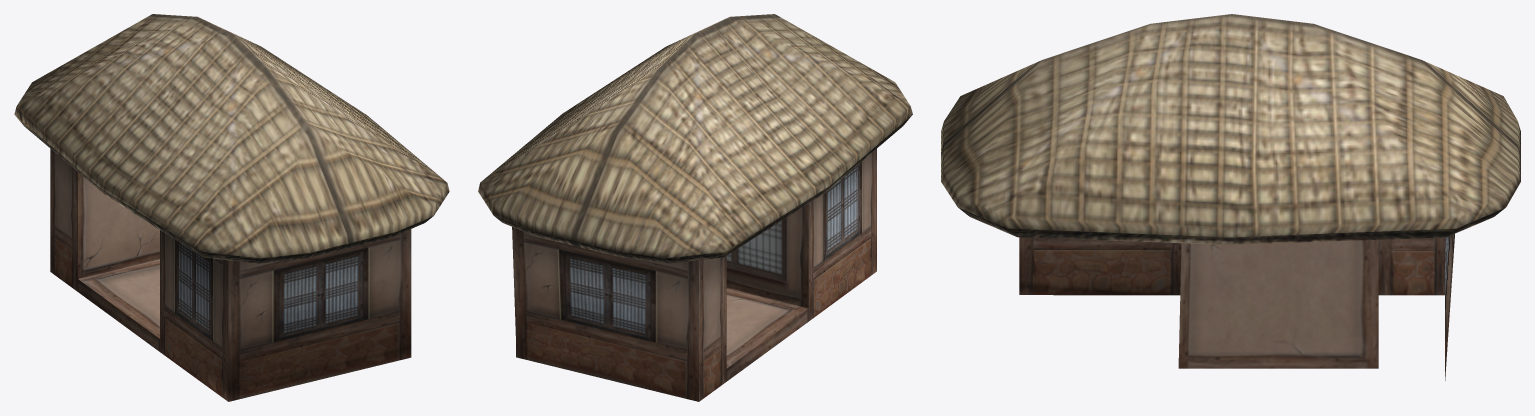
File: choga.FBX
3 views of the same model, side by side, from view 1: azimuth 30°, elevation 25°; view 2: azimuth 150°, elevation 25°; view 3: azimuth 270°, elevation 25° (orthographic). The views are drawn at different scales.
Parts seen in each view (by area): view 1: Box001; view 2: Box001; view 3: Box001.
Part boxes in pixels (box(x1,y1,x2,y2)): Box001: box(14, 14, 449, 401); Box001: box(478, 14, 912, 401); Box001: box(941, 14, 1520, 380).
Bounding box in the file's own units: 27.64 × 27.65 × 43.33.
